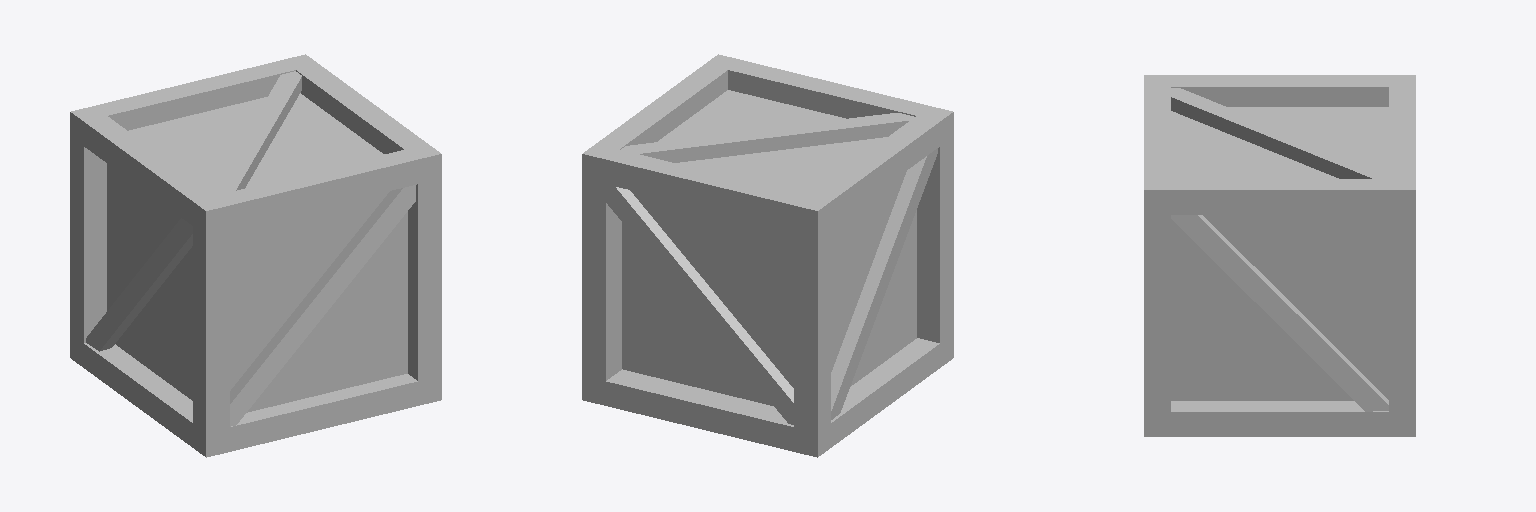
Rendered from Wooden_Create.obj.
The picture shows the model from 3 angles: view 1: azimuth 30°, elevation 25°; view 2: azimuth 150°, elevation 25°; view 3: azimuth 270°, elevation 25°; orthographic projection.
Parts seen in each view (by area): view 1: pCube8; view 2: pCube8; view 3: pCube8.
Boxes of the visible parts, x1,y1,x2,y2 form: pCube8: [70, 54, 441, 457]; pCube8: [582, 54, 953, 457]; pCube8: [1144, 75, 1415, 436].
Size of the model in its own units: 2.94 by 2.94 by 2.94.